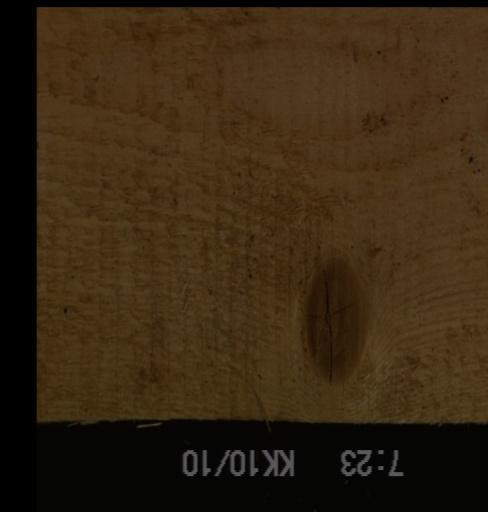sound_knot: (302, 257, 367, 385)
